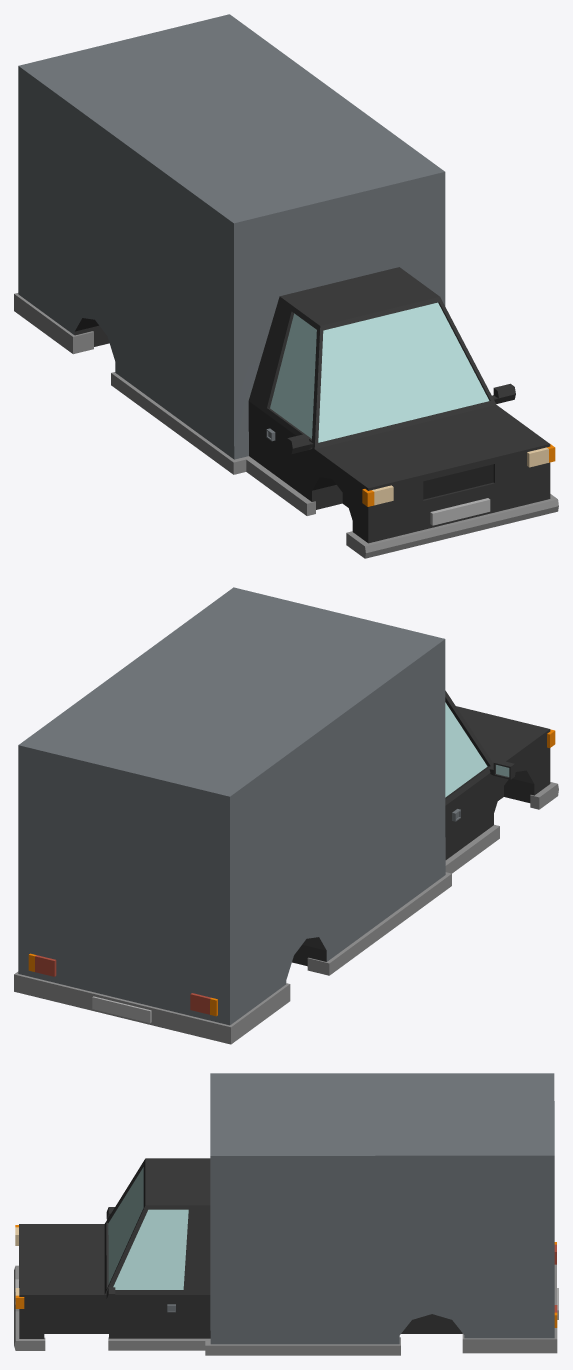
Rendered from Car_12.fbx.
3 views of the same model, one above another, from view 1: azimuth 30°, elevation 25°; view 2: azimuth 150°, elevation 25°; view 3: azimuth 270°, elevation 25° (orthographic). The views are drawn at different scales.
Visible parts, largest first — view 1: Car_12; view 2: Car_12; view 3: Car_12.
Part boxes in pixels (<box>): Car_12: <box>14,14,558,558</box>; Car_12: <box>14,587,558,1044</box>; Car_12: <box>14,1073,558,1355</box>.
Bounding box in the file's own units: 197 × 209 × 521.
